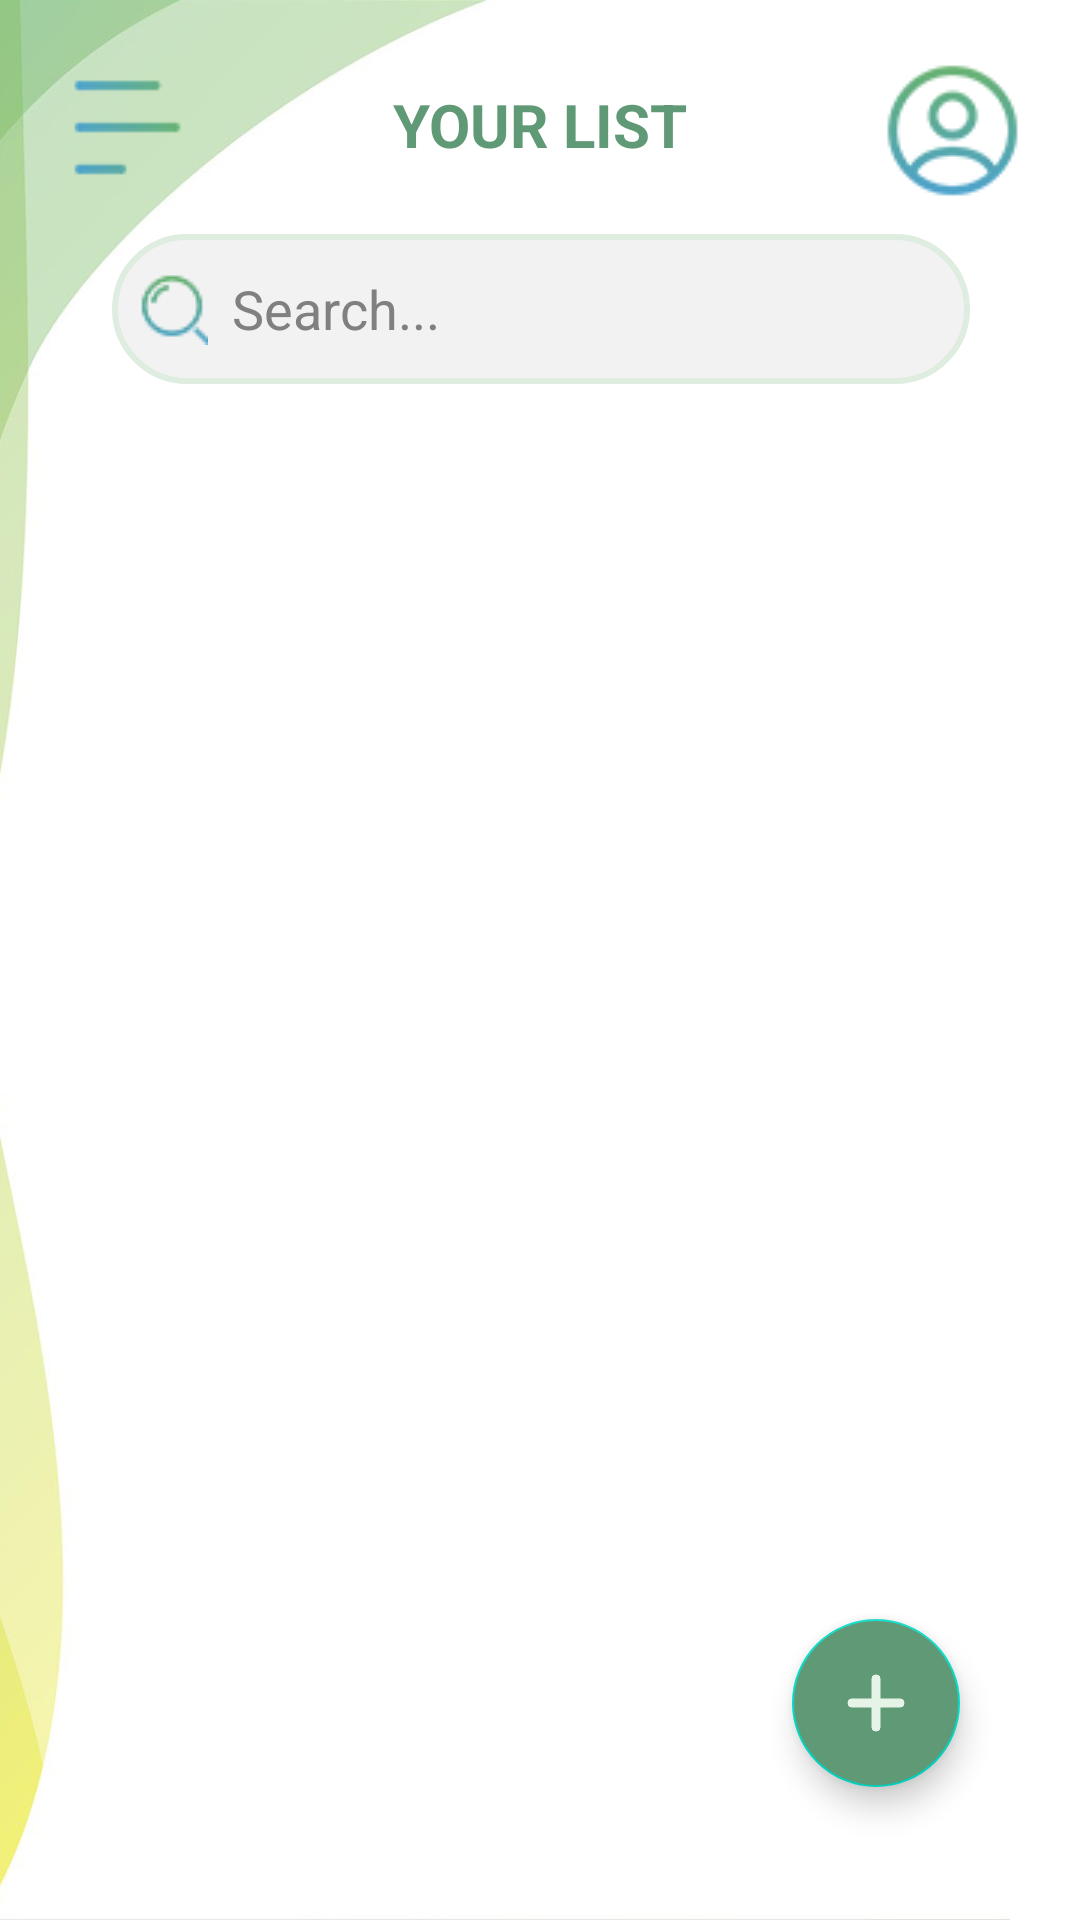

Named icons in this screenshot (1080px×1920px) and their centers, (x,y):
add: (876,1703)
profile: (952,130)
